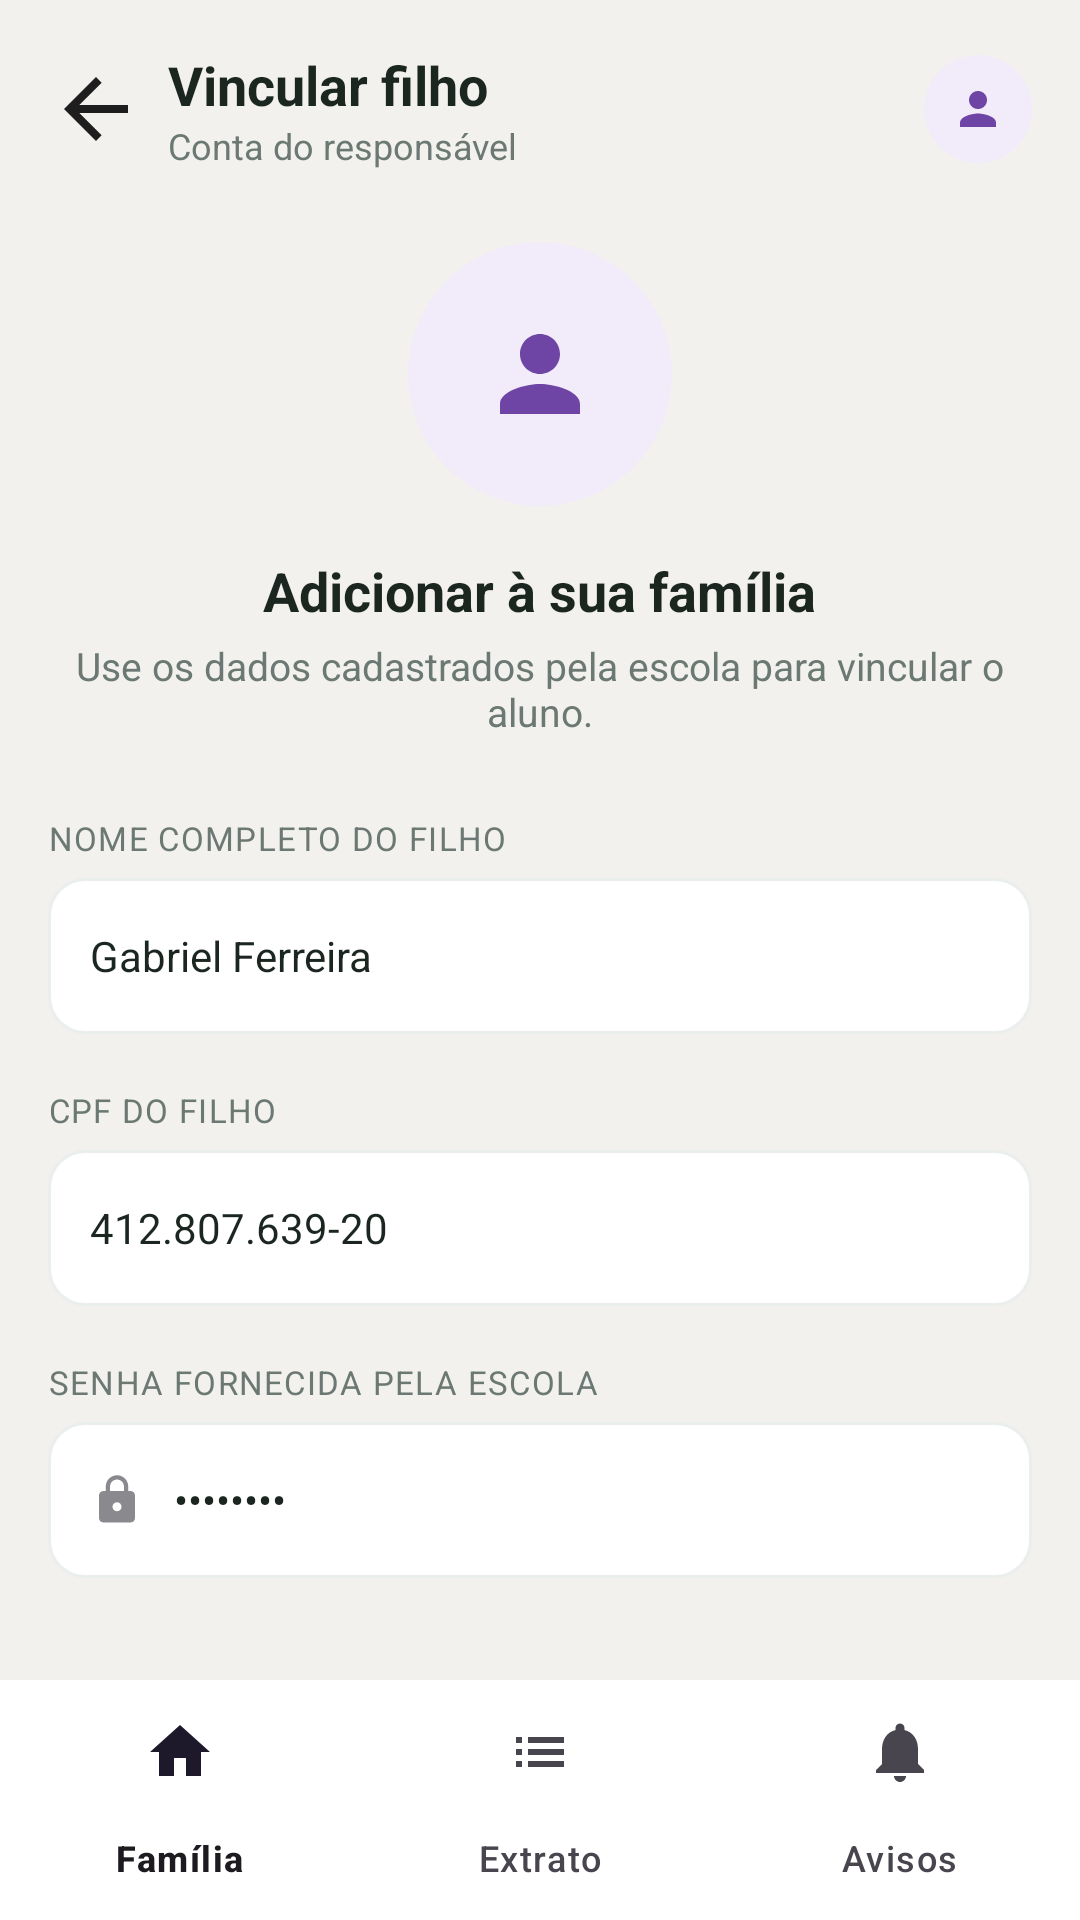

Icons on this 1080×1920 Android screen, each with its box as (x1=x1, y1=y1, x2=x2, y2=y2):
arrow back: (x1=64, y1=77, x2=128, y2=141)
lock: (x1=99, y1=1475, x2=135, y2=1523)
person: (x1=960, y1=91, x2=996, y2=127), (x1=500, y1=334, x2=580, y2=414)
